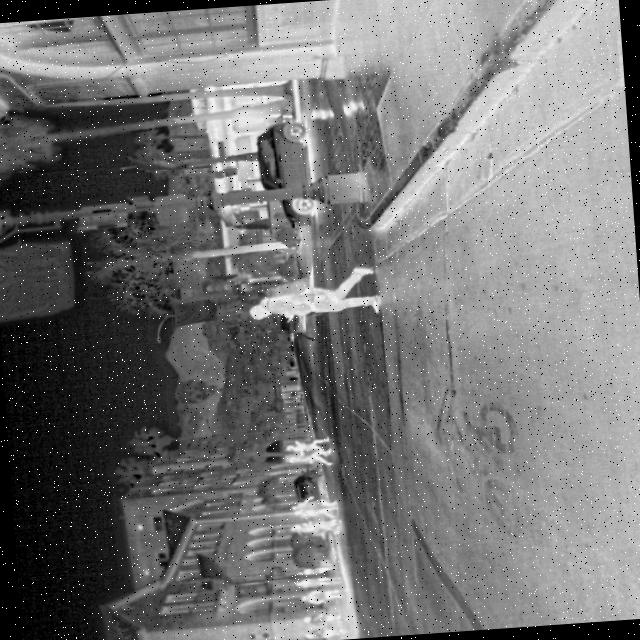Pedestrian: (239, 262, 384, 324), (288, 516, 342, 538), (288, 493, 339, 516), (282, 448, 334, 467), (285, 435, 330, 456), (296, 586, 344, 604), (303, 624, 346, 640), (302, 610, 344, 626), (294, 574, 334, 588), (296, 564, 333, 576)
Vehicle: (248, 116, 320, 230)
